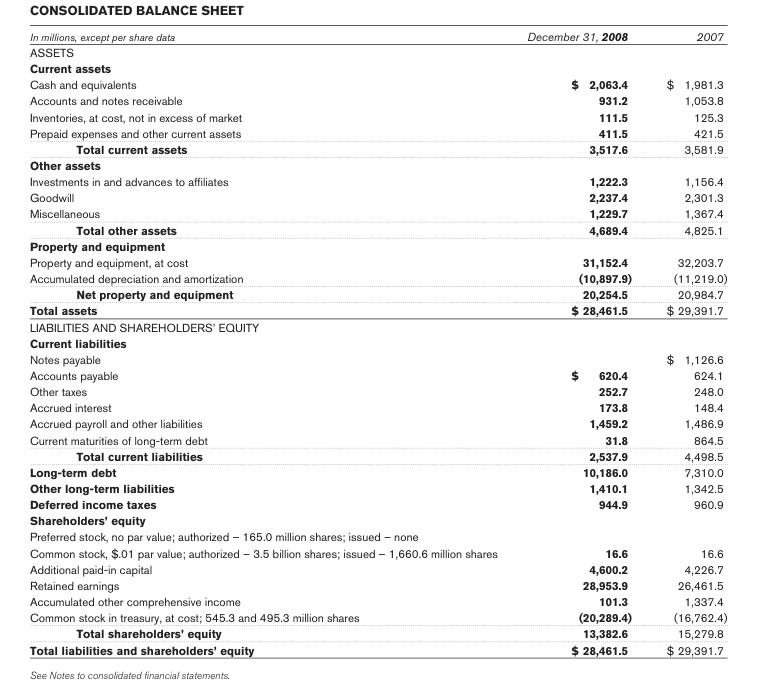table: (28, 28, 726, 656)
table column: (28, 28, 511, 656), (511, 28, 648, 656), (648, 28, 726, 656)
table column header: (28, 28, 726, 43)
table projected row header: (28, 43, 726, 60), (28, 60, 726, 76), (28, 156, 726, 172), (28, 237, 726, 253), (28, 318, 726, 334), (28, 334, 726, 350), (28, 512, 726, 528), (28, 528, 726, 544)
table row: (28, 43, 726, 60), (28, 172, 726, 189), (28, 269, 726, 286), (28, 382, 726, 399), (28, 495, 726, 512), (28, 592, 726, 609), (28, 60, 726, 76), (28, 76, 726, 92), (28, 92, 726, 108), (28, 108, 726, 124), (28, 124, 726, 140), (28, 140, 726, 156), (28, 156, 726, 172), (28, 189, 726, 205), (28, 205, 726, 221), (28, 221, 726, 237), (28, 237, 726, 253), (28, 253, 726, 269), (28, 286, 726, 302), (28, 302, 726, 318), (28, 318, 726, 334), (28, 334, 726, 350), (28, 350, 726, 366), (28, 366, 726, 382), (28, 399, 726, 415), (28, 415, 726, 431), (28, 431, 726, 447), (28, 447, 726, 463), (28, 463, 726, 479), (28, 479, 726, 495), (28, 512, 726, 528), (28, 528, 726, 544), (28, 544, 726, 560), (28, 560, 726, 576), (28, 576, 726, 592), (28, 609, 726, 625), (28, 625, 726, 641), (28, 28, 726, 43), (28, 641, 726, 656)
